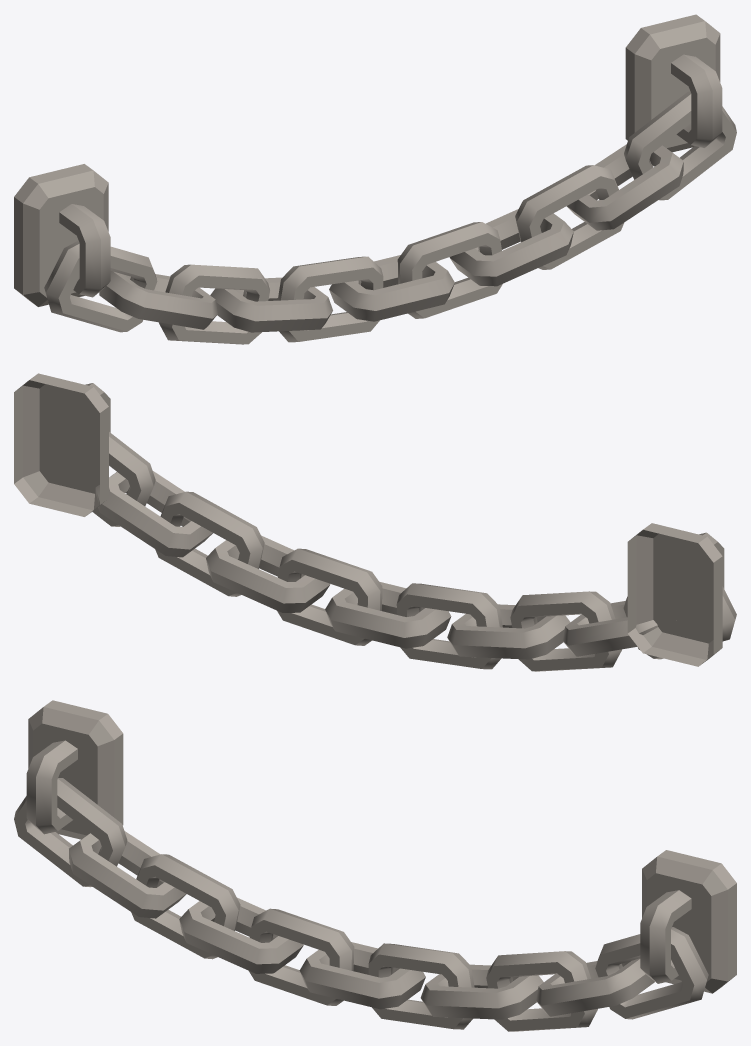
File: m_dec_dung_chain.fbx
3 views of the same model, one above another, from view 1: azimuth 30°, elevation 25°; view 2: azimuth 150°, elevation 25°; view 3: azimuth 330°, elevation 25° (orthographic).
Visible parts, largest first — view 1: m_dec_dung_chain; view 2: m_dec_dung_chain; view 3: m_dec_dung_chain.
Boxes of the visible parts, x1,y1,x2,y2 form: m_dec_dung_chain: [14, 14, 736, 344]; m_dec_dung_chain: [14, 373, 736, 671]; m_dec_dung_chain: [14, 700, 736, 1031].
Size of the model in its own units: 4.56 by 1.31 by 0.5362.
